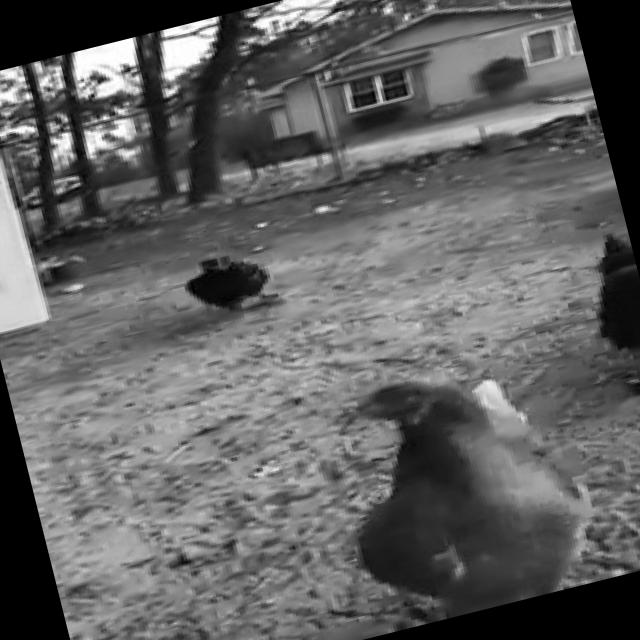running: (241, 316, 625, 640), (157, 222, 303, 348)
